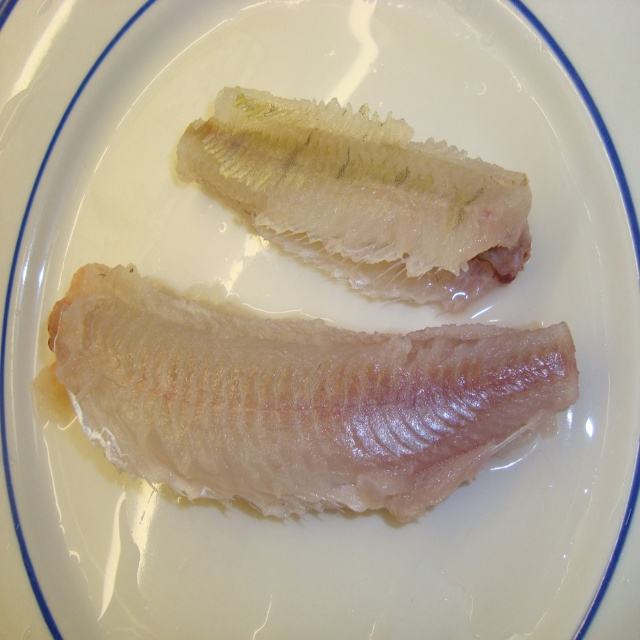Fish: (48, 255, 588, 522), (166, 79, 540, 314)
